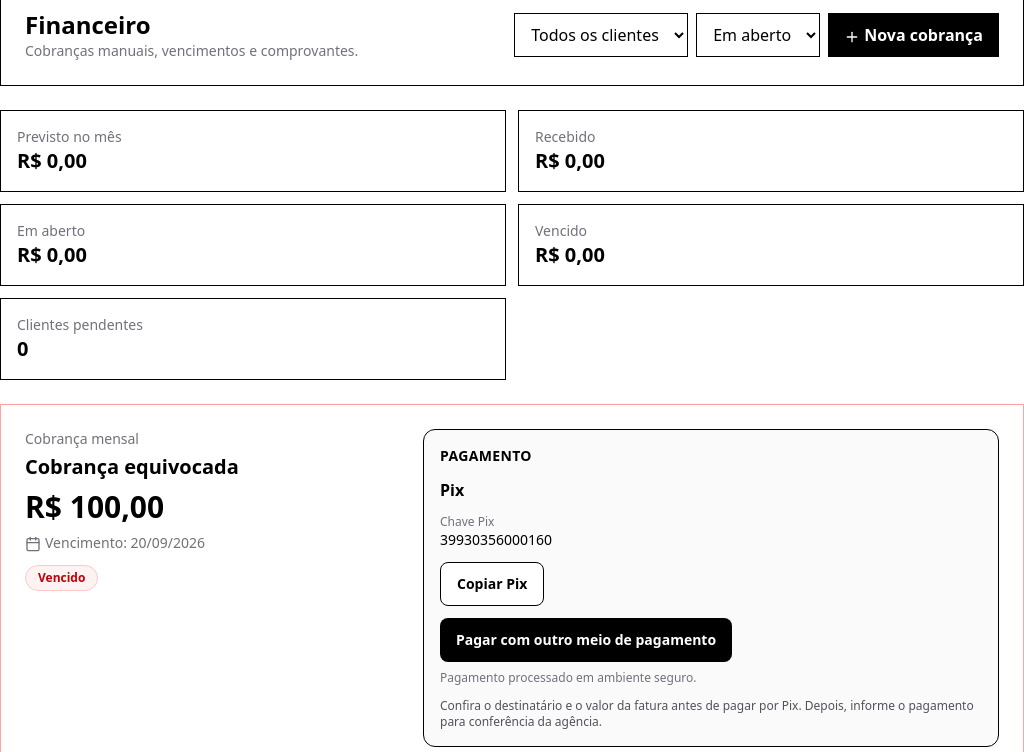
Test case: Admin exclui fatura pending e assinatura atualiza a lista sem recarregar
Select "Todas" in the dropdown named "Filtrar faturas" at (758, 35), box [696,13,820,57]
(page scrolled)
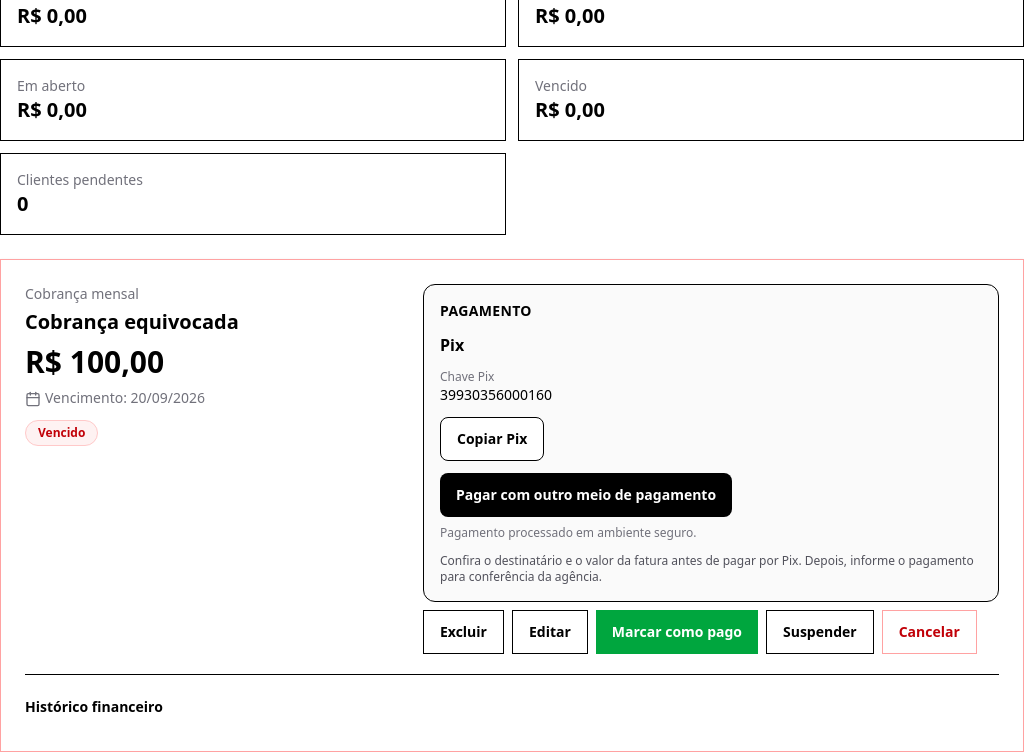
Expected: the heading "Cobrança equivocada" is shown, [25,308,239,336]
Click the button "Excluir" at (464, 632), box [423,610,504,654]
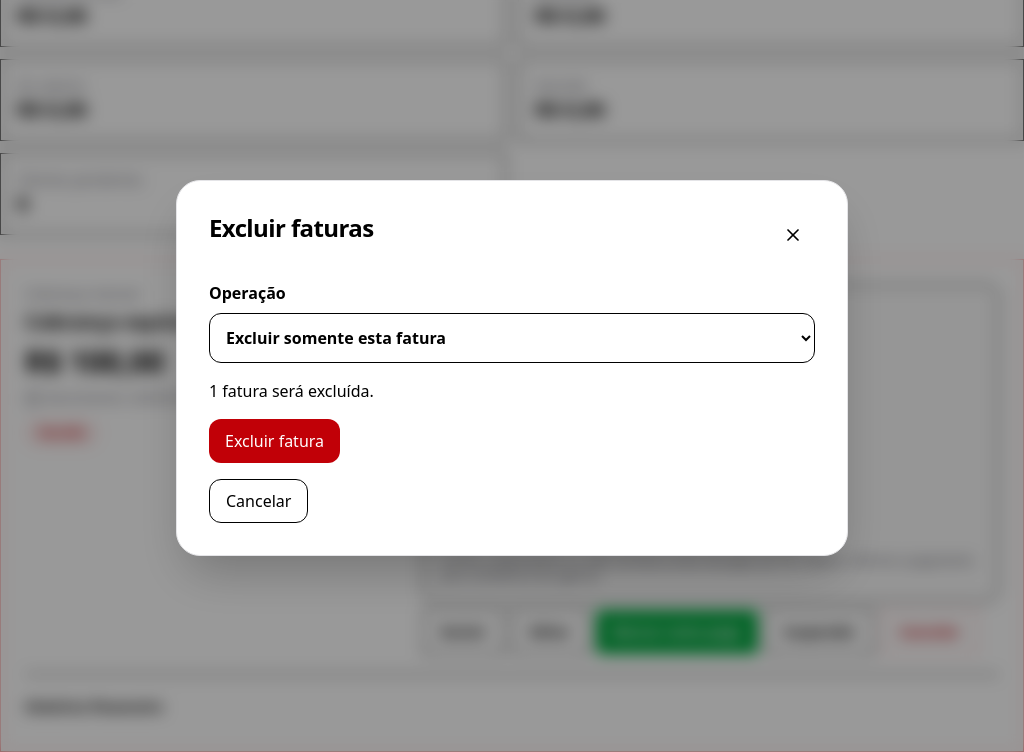
Now the text "1 fatura será excluída." is shown, box [209,380,374,402]
Click the button "Excluir fatura" at (274, 441), box [209,419,340,463]
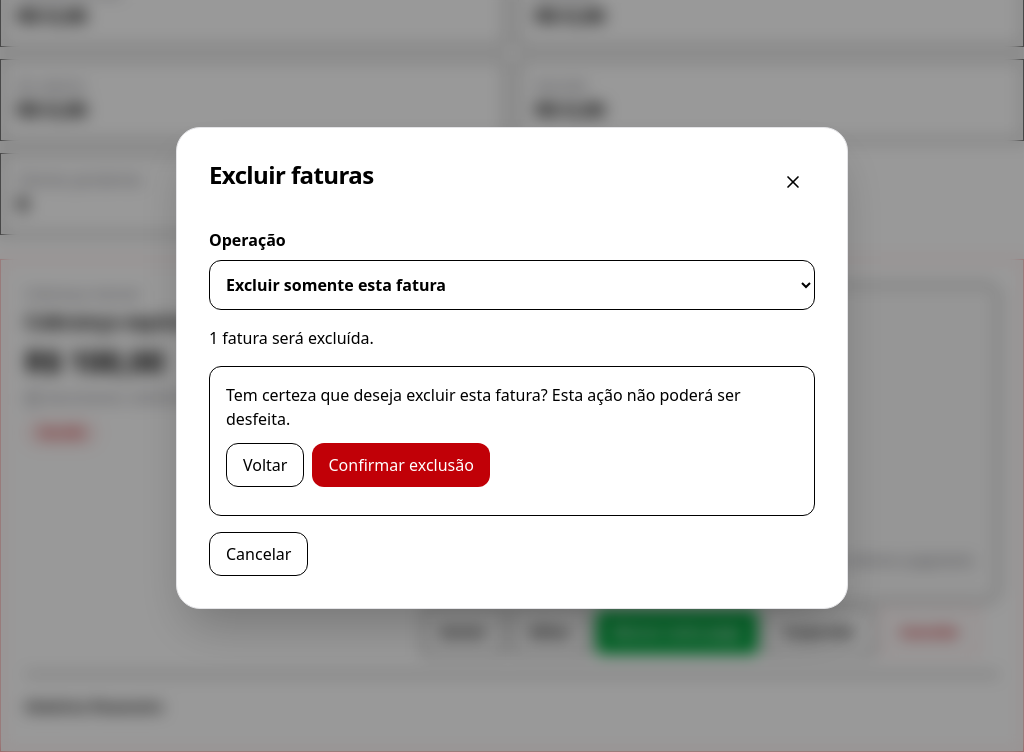
Click the button "Confirmar exclusão" at (401, 465), box [312,443,490,487]
(page scrolled)
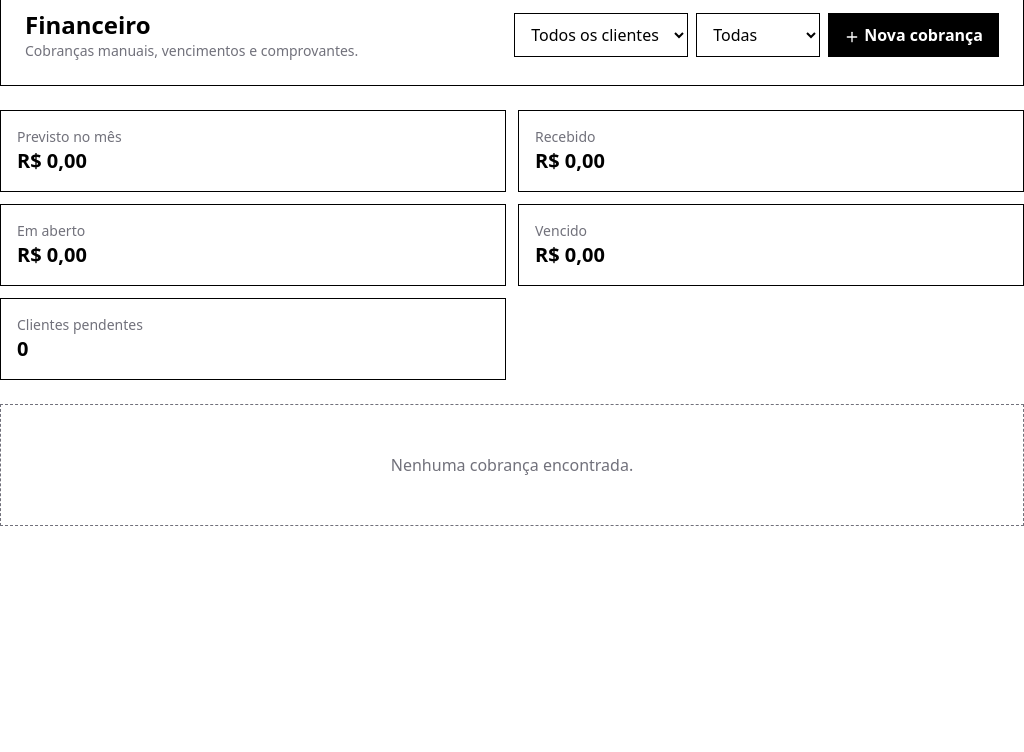
Now the heading "Cobrança equivocada" is gone
Now the dialog is gone
Now the text "Nenhuma cobrança encontrada." is shown, box [0,404,1023,526]
